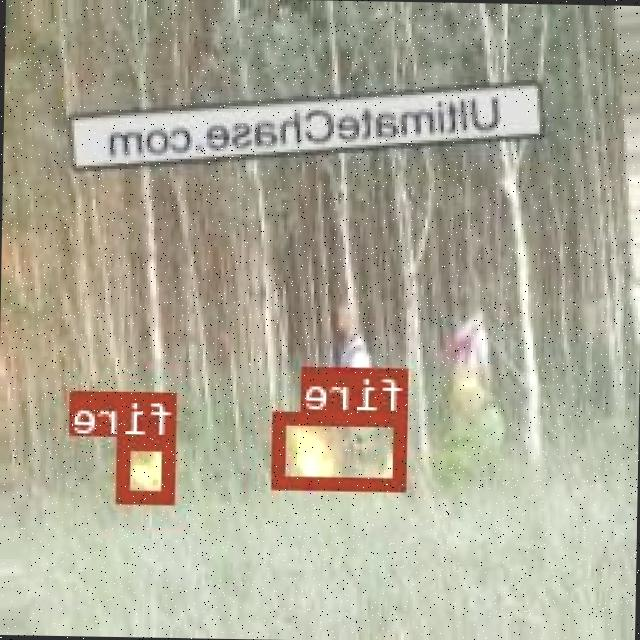fire: (274, 410, 409, 489), (119, 434, 177, 501)
